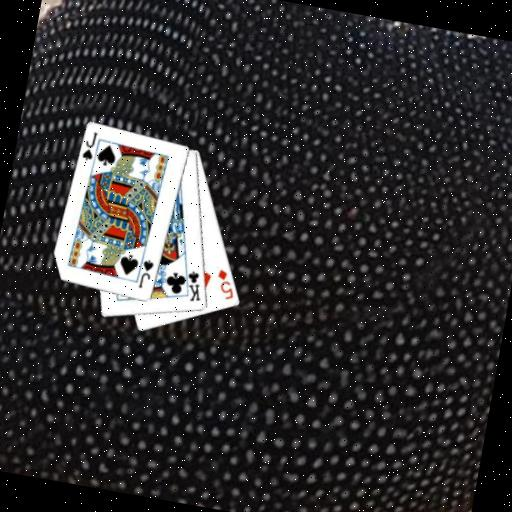5D: (211, 265, 240, 302)
JS: (135, 255, 156, 291), (79, 128, 100, 163)
KC: (176, 265, 207, 304)
